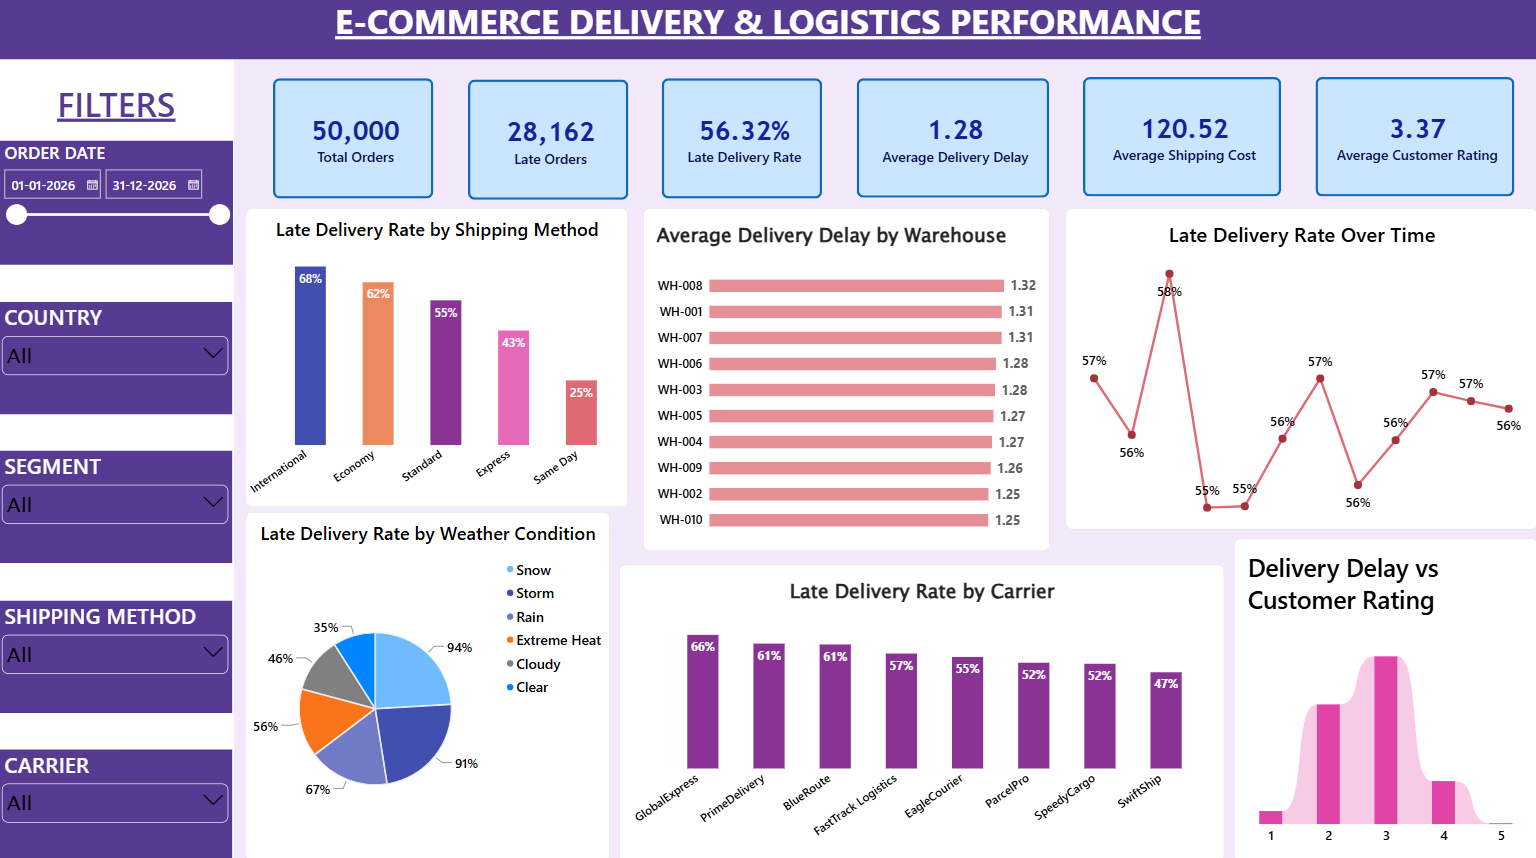

This screenshot's page, from the dashboard's own definition file:
{"tool":"powerbi","page":{"name":"Overview","canvas":[1920,1080],"ordinal":0},"visuals":[{"type":"cardVisual","fields":{"Data":["ecommerce_logistics orders.Total Orders"]},"box":[343.5,101.5,200,150],"z":0},{"type":"cardVisual","fields":{"Data":["ecommerce_logistics orders.Average Customer Rating"]},"box":[1643.3,99.5,249,149.7],"z":1000},{"type":"cardVisual","fields":{"Data":["ecommerce_logistics orders.Average Delivery Delay"]},"box":[1070.4,101.5,240.9,149.7],"z":2000},{"type":"cardVisual","fields":{"Data":["ecommerce_logistics orders.Late Orders"]},"box":[585.8,103.4,200,150],"z":3000},{"type":"cardVisual","fields":{"Data":["ecommerce_logistics orders.Late Delivery Rate"]},"box":[828.1,101.5,200,150],"z":4000},{"type":"cardVisual","fields":{"Data":["ecommerce_logistics orders.Average Shipping Cost"]},"box":[1353.6,99.5,247.4,149.7],"z":5000},{"type":"shape","box":[0,77.9,294.6,1000.8],"z":6000},{"type":"textbox","box":[0,0,1920.6,77.9],"z":7000},{"type":"slicer","fields":{"Values":["ecommerce_logistics orders.order_date"]},"box":[0,179.5,292.7,154.2],"z":8000},{"type":"textbox","box":[10.9,102.9,273.2,80],"z":9000},{"type":"slicer","fields":{"Values":["ecommerce_logistics orders.customer_country"]},"box":[0,380,292,140],"z":12000},{"type":"slicer","fields":{"Values":["ecommerce_logistics orders.customer_segment"]},"box":[0,566.2,292,140],"z":12002},{"type":"slicer","fields":{"Values":["ecommerce_logistics orders.shipping_method"]},"box":[0,752.5,292,140],"z":12003},{"type":"slicer","fields":{"Values":["ecommerce_logistics orders.carrier"]},"box":[0,938.7,292,140],"z":12004},{"type":"clusteredColumnChart","title":"Late Delivery Rate by Carrier","fields":{"Category":["ecommerce_logistics orders.carrier"],"Y":["ecommerce_logistics orders.Late Delivery Rate"]},"box":[774.9,707.5,754,372.2],"z":12006},{"type":"clusteredBarChart","title":"Average Delivery Delay by Warehouse","fields":{"Category":["ecommerce_logistics orders.warehouse_id"],"Y":["ecommerce_logistics orders.Average Delivery Delay"]},"box":[803.7,263.1,507.4,427.4],"z":12007},{"type":"pieChart","title":"Late Delivery Rate by Weather Condition","fields":{"Category":["ecommerce_logistics orders.weather_condition"],"Y":["ecommerce_logistics orders.Late Delivery Rate"]},"box":[309.2,642.8,454,436.1],"z":12008},{"type":"ribbonChart","title":"Delivery Delay vs Customer Rating","fields":{"Category":["ecommerce_logistics orders.customer_rating"],"Y":["Sum(ecommerce_logistics orders.delivery_delay_days)"]},"box":[1541.7,675.4,378.6,404.3],"z":12009},{"type":"clusteredColumnChart","title":"Late Delivery Rate by Shipping Method","fields":{"Category":["ecommerce_logistics orders.shipping_method"],"Y":["ecommerce_logistics orders.Late Delivery Rate"]},"box":[309.2,263.6,476.8,372.7],"z":12010},{"type":"lineChart","title":"Late Delivery Rate Over Time","fields":{"Category":["ecommerce_logistics orders.order_date.Variation.Date Hierarchy.Month"],"Y":["ecommerce_logistics orders.Late Delivery Rate"]},"box":[1331.6,263.1,588.8,401.1],"z":12011}]}

Visuals, with their boxes in screenshot pixels (x1, y1, x2, y2), scaled from the page's 1920x1080 canvas onto the 1536x858 screenshot:
cardVisual - ecommerce_logistics orders.Total Orders: [left=275, top=81, right=435, bottom=200]
cardVisual - ecommerce_logistics orders.Average Customer Rating: [left=1315, top=79, right=1514, bottom=198]
cardVisual - ecommerce_logistics orders.Average Delivery Delay: [left=856, top=81, right=1049, bottom=200]
cardVisual - ecommerce_logistics orders.Late Orders: [left=469, top=82, right=629, bottom=201]
cardVisual - ecommerce_logistics orders.Late Delivery Rate: [left=662, top=81, right=822, bottom=200]
cardVisual - ecommerce_logistics orders.Average Shipping Cost: [left=1083, top=79, right=1281, bottom=198]
shape: [left=0, top=62, right=236, bottom=857]
textbox: [left=0, top=0, right=1535, bottom=62]
slicer - ecommerce_logistics orders.order_date: [left=0, top=143, right=234, bottom=265]
textbox: [left=9, top=82, right=227, bottom=145]
slicer - ecommerce_logistics orders.customer_country: [left=0, top=302, right=234, bottom=413]
slicer - ecommerce_logistics orders.customer_segment: [left=0, top=450, right=234, bottom=561]
slicer - ecommerce_logistics orders.shipping_method: [left=0, top=598, right=234, bottom=709]
slicer - ecommerce_logistics orders.carrier: [left=0, top=746, right=234, bottom=857]
"Late Delivery Rate by Carrier" clusteredColumnChart: [left=620, top=562, right=1223, bottom=857]
"Average Delivery Delay by Warehouse" clusteredBarChart: [left=643, top=209, right=1049, bottom=549]
"Late Delivery Rate by Weather Condition" pieChart: [left=247, top=511, right=611, bottom=857]
"Delivery Delay vs Customer Rating" ribbonChart: [left=1233, top=537, right=1535, bottom=857]
"Late Delivery Rate by Shipping Method" clusteredColumnChart: [left=247, top=209, right=629, bottom=506]
"Late Delivery Rate Over Time" lineChart: [left=1065, top=209, right=1535, bottom=528]
